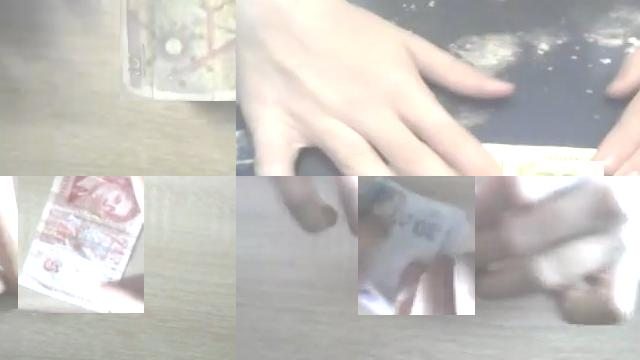20leva: (358, 176, 475, 315)
5leva: (18, 176, 144, 313)
